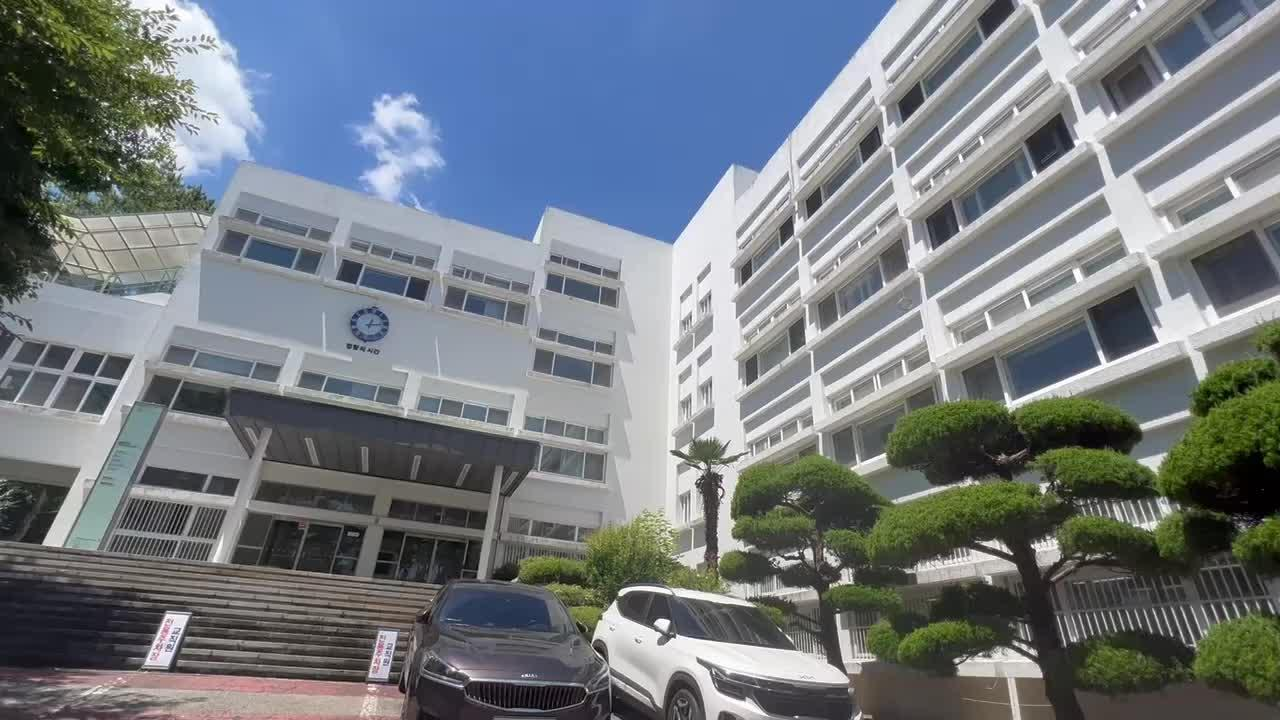building: (157, 149, 587, 570)
